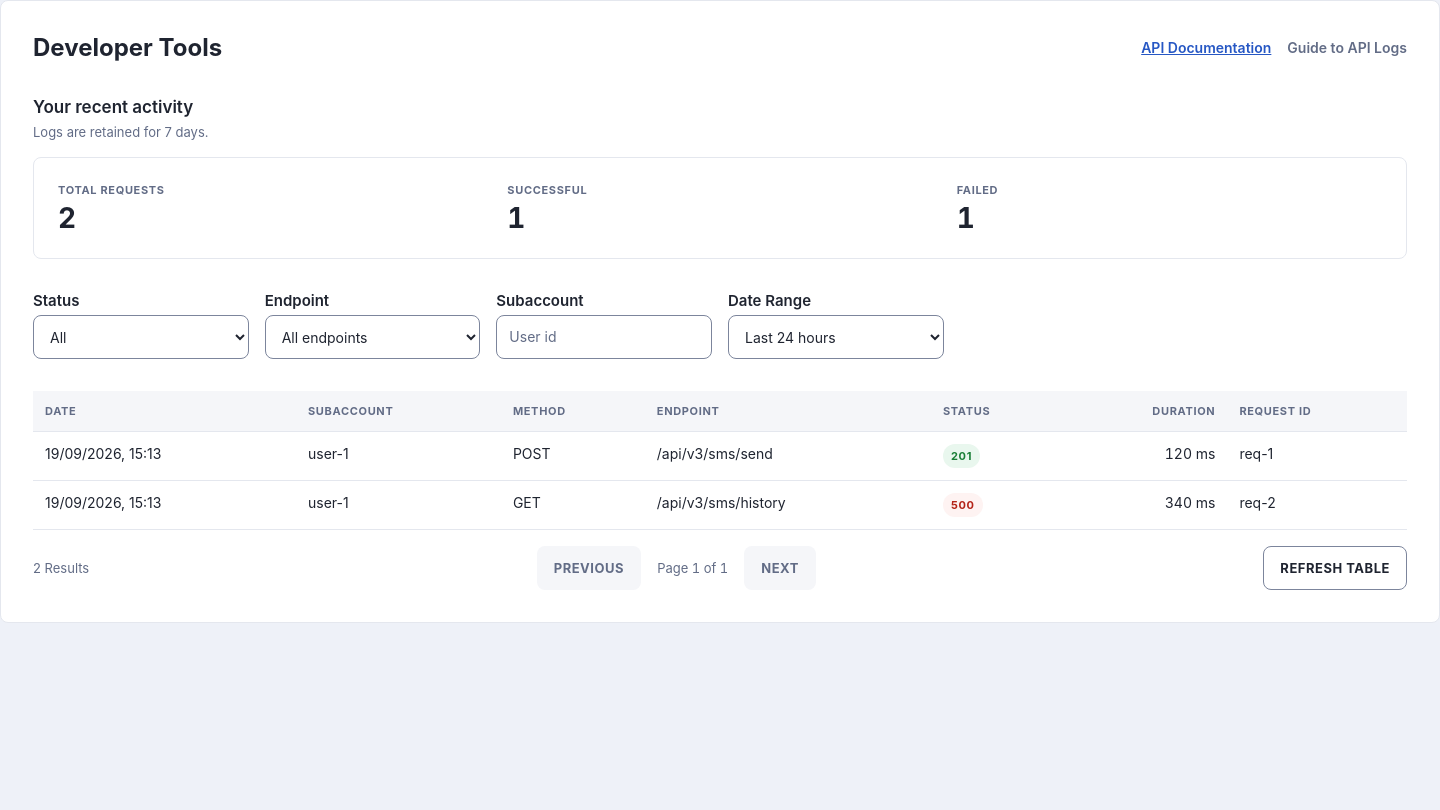
ApiLogsScreen › asks for the last seven days as one closed window
This screenshot has width=1440, height=810.
Expected: the text "req-1" is shown, [1227, 432, 1407, 480]
Select "Last 7 days" in the dropdown labelled "Date Range" at (836, 337), box [728, 315, 944, 359]
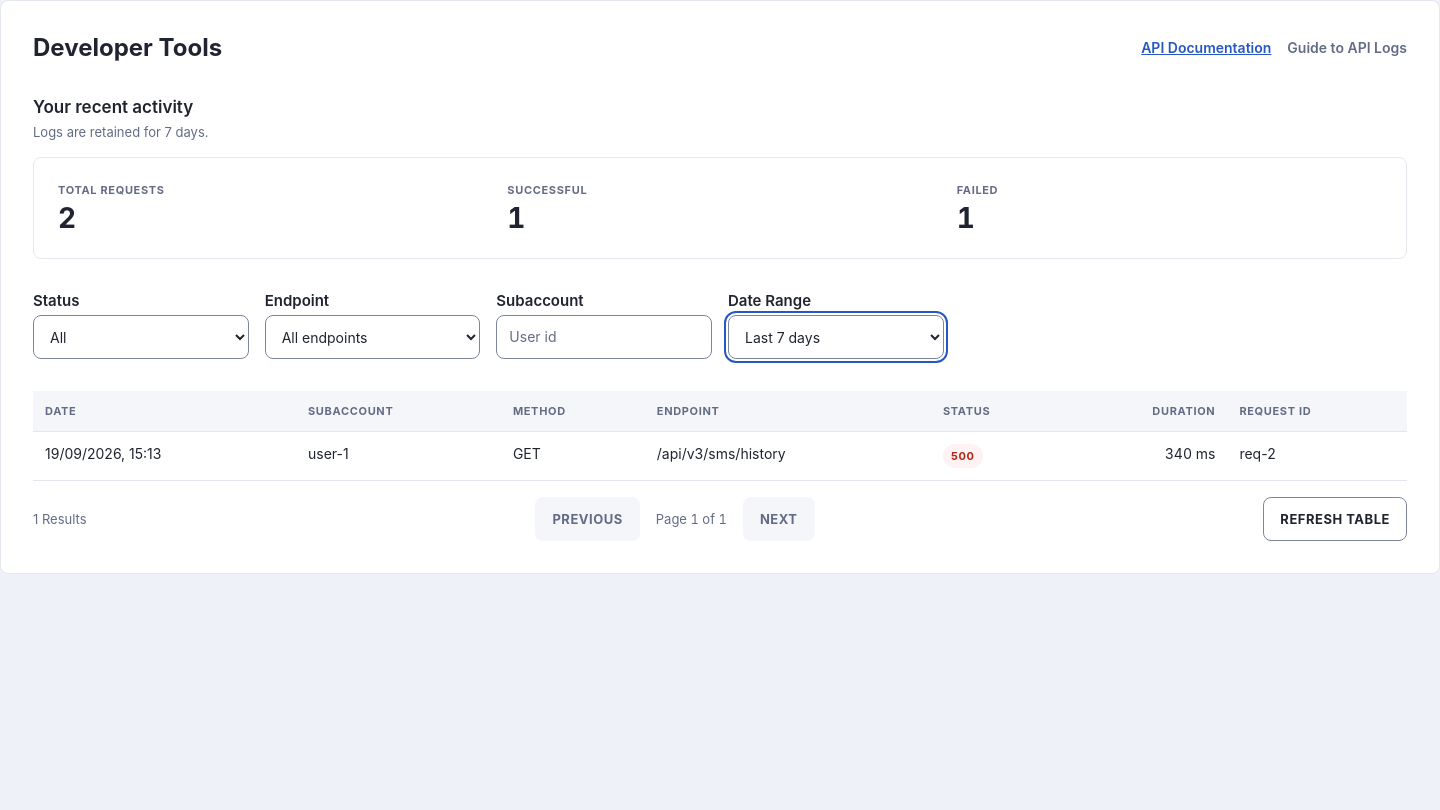
Result: the text "1 Results" is shown at [33, 510, 87, 528]
